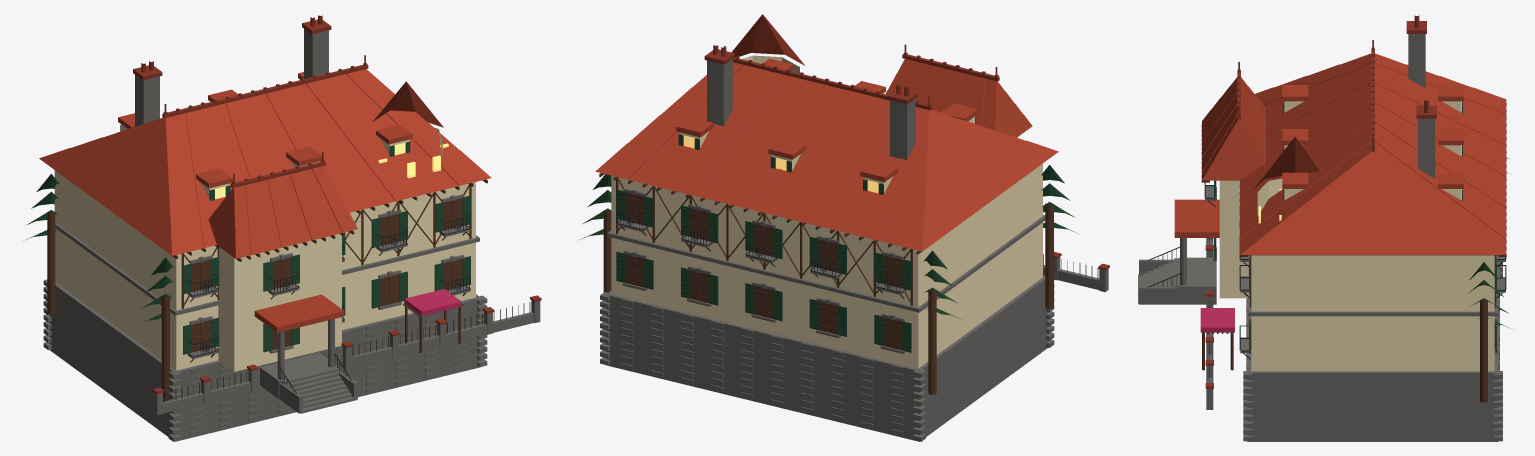
Rendered from fv_ll_01_ana_mandara_le_petit_manor.glb.
3 views of the same model, side by side, from view 1: azimuth 30°, elevation 25°; view 2: azimuth 150°, elevation 25°; view 3: azimuth 270°, elevation 25° (orthographic). The views are drawn at different scales.
Parts seen in each view (by area): view 1: marseille_corrugated_roof_tiles, granite_foundation_and_stairs, stucco_facade_and_dormers, colombage_timber_and_eaves, pine_green_louvered_shutters, ridge_cresting_and_chimneys, wrought_iron_balconies_3d, pine_trees_and_garden_hedges, bougainvillea_pergola_clusters, warm_night_windows_ffb86c; view 2: marseille_corrugated_roof_tiles, granite_foundation_and_stairs, stucco_facade_and_dormers, colombage_timber_and_eaves, pine_green_louvered_shutters, ridge_cresting_and_chimneys, pine_trees_and_garden_hedges, wrought_iron_balconies_3d; view 3: marseille_corrugated_roof_tiles, stucco_facade_and_dormers, granite_foundation_and_stairs, colombage_timber_and_eaves, ridge_cresting_and_chimneys, bougainvillea_pergola_clusters, wrought_iron_balconies_3d, pine_green_louvered_shutters.
Part boxes in pixels (left/top/right/bottom): marseille_corrugated_roof_tiles: left=39, top=69, right=491, bottom=332; granite_foundation_and_stairs: left=43, top=29, right=540, bottom=441; stucco_facade_and_dormers: left=54, top=124, right=475, bottom=371; colombage_timber_and_eaves: left=47, top=179, right=487, bottom=398; pine_green_louvered_shutters: left=120, top=125, right=470, bottom=354; ridge_cresting_and_chimneys: left=133, top=15, right=541, bottom=393; wrought_iron_balconies_3d: left=164, top=212, right=530, bottom=402; pine_trees_and_garden_hedges: left=22, top=173, right=173, bottom=324; bougainvillea_pergola_clusters: left=404, top=289, right=461, bottom=316; warm_night_windows_ffb86c: left=214, top=142, right=448, bottom=199; marseille_corrugated_roof_tiles: left=595, top=14, right=1058, bottom=251; granite_foundation_and_stairs: left=600, top=59, right=1108, bottom=441; stucco_facade_and_dormers: left=611, top=55, right=1042, bottom=368; colombage_timber_and_eaves: left=599, top=173, right=1053, bottom=394; pine_green_louvered_shutters: left=616, top=117, right=975, bottom=352; ridge_cresting_and_chimneys: left=704, top=44, right=1109, bottom=270; pine_trees_and_garden_hedges: left=580, top=164, right=1078, bottom=319; wrought_iron_balconies_3d: left=616, top=207, right=1098, bottom=298; marseille_corrugated_roof_tiles: left=1174, top=53, right=1506, bottom=254; stucco_facade_and_dormers: left=1219, top=101, right=1494, bottom=371; granite_foundation_and_stairs: left=1138, top=34, right=1505, bottom=441; colombage_timber_and_eaves: left=1201, top=103, right=1506, bottom=402; ridge_cresting_and_chimneys: left=1205, top=15, right=1436, bottom=388; bougainvillea_pergola_clusters: left=1200, top=308, right=1234, bottom=332; wrought_iron_balconies_3d: left=1147, top=182, right=1506, bottom=382; pine_green_louvered_shutters: left=1214, top=101, right=1496, bottom=353.
Bounding box in the file's own units: 27.72 × 20.93 × 23.92.
